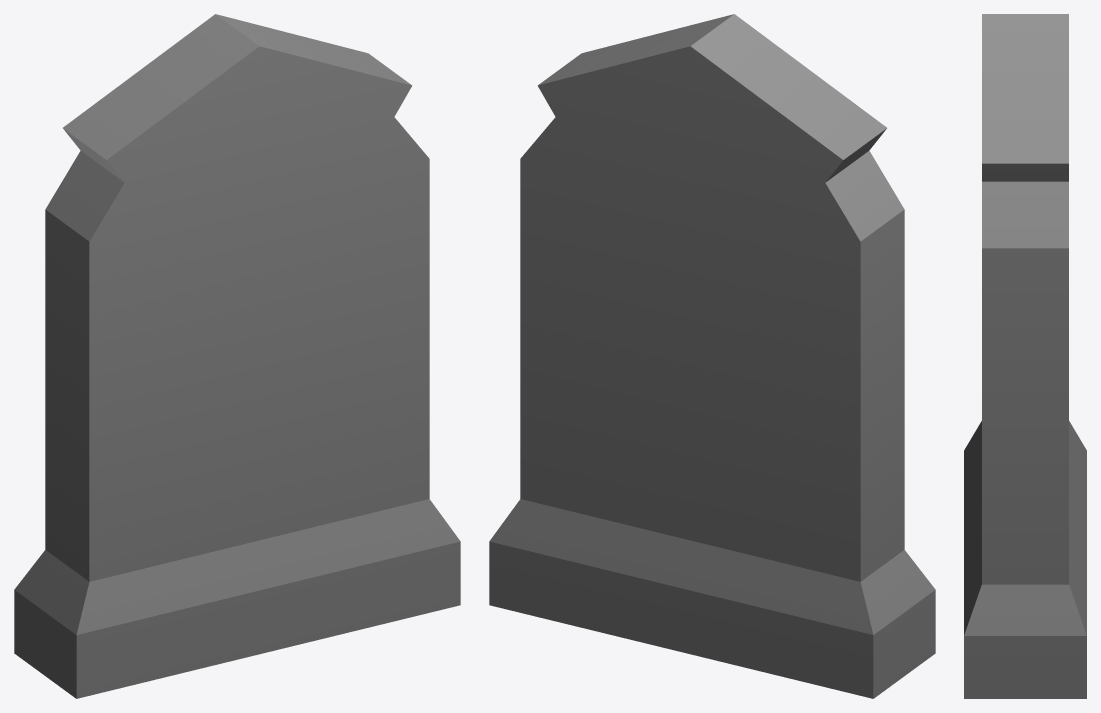
File: tombstone 3.fbx
The picture shows the model from 3 angles, left to right: view 1: azimuth 30°, elevation 25°; view 2: azimuth 150°, elevation 25°; view 3: azimuth 270°, elevation 25°; orthographic projection.
Parts seen in each view (by area): view 1: tombstone 3; view 2: tombstone 3; view 3: tombstone 3.
Boxes of the visible parts, x1=… form: tombstone 3: x1=14, y1=14, x2=460, y2=698; tombstone 3: x1=489, y1=14, x2=935, y2=698; tombstone 3: x1=964, y1=14, x2=1086, y2=698.
Size of the model in its own units: 82.19 by 123 by 23.04.
